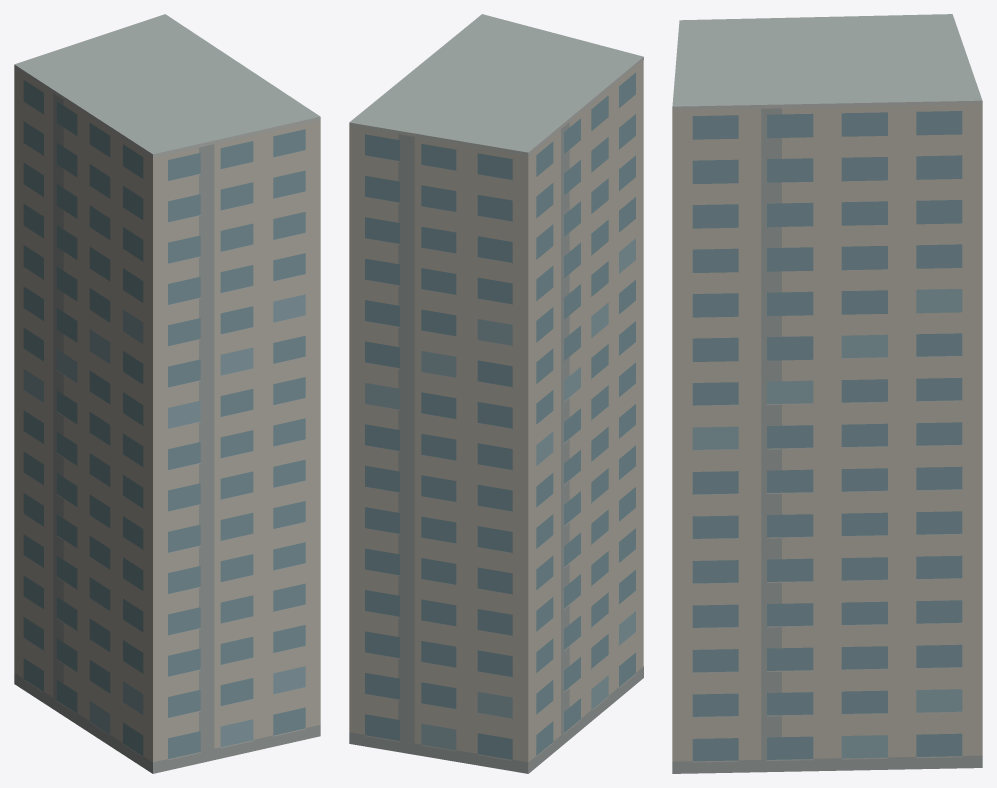
Rendered from residential-4c8cd1e0-9744-4f27-8990-f61138be860b.glb.
3 renders of one model, left to right at view 1: azimuth 30°, elevation 25°; view 2: azimuth 150°, elevation 25°; view 3: azimuth 270°, elevation 25°, orthographic. The views are drawn at different scales.
Parts seen in each view (by area): view 1: residential-4c8cd1e0-9744-4f27-8990-f61138be860b.tmp; view 2: residential-4c8cd1e0-9744-4f27-8990-f61138be860b.tmp; view 3: residential-4c8cd1e0-9744-4f27-8990-f61138be860b.tmp.
Boxes of the visible parts, x1,y1,x2,y2 form: residential-4c8cd1e0-9744-4f27-8990-f61138be860b.tmp: [14, 14, 320, 773]; residential-4c8cd1e0-9744-4f27-8990-f61138be860b.tmp: [349, 14, 643, 773]; residential-4c8cd1e0-9744-4f27-8990-f61138be860b.tmp: [672, 14, 982, 773].
Bounding box in the file's own units: 12.81 × 43 × 18.12.
